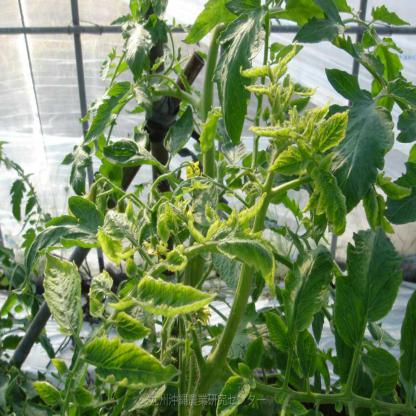tomato leaf yellow virus: (82, 336, 182, 389), (40, 244, 93, 343), (221, 225, 280, 292), (129, 275, 221, 316), (310, 162, 349, 235), (206, 372, 257, 415), (313, 106, 351, 157), (96, 216, 127, 269), (271, 142, 310, 183)
